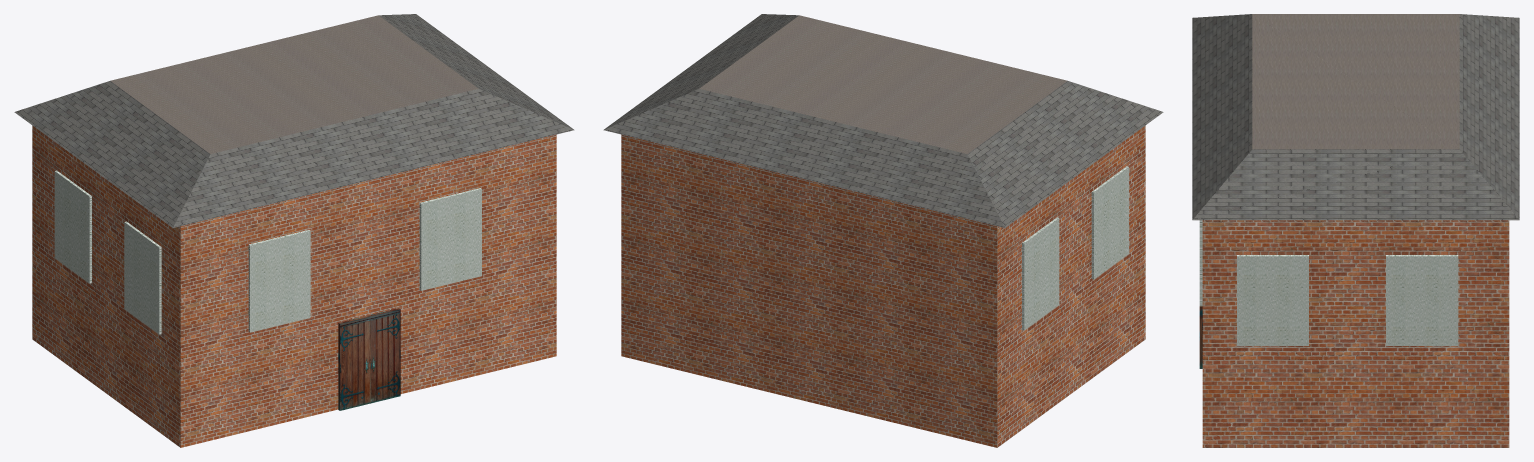
The model's file is building.fbx.
The picture shows the model from 3 angles, left to right: view 1: azimuth 30°, elevation 25°; view 2: azimuth 150°, elevation 25°; view 3: azimuth 270°, elevation 25°; orthographic projection. The views are drawn at different scales.
Visible parts, largest first — view 1: building, roof, door, window1, window, window5, window4; view 2: building, roof, window4, window5; view 3: roof, building, window3, window2, window.
Boxes of the visible parts, x1=… form: building: x1=32, y1=125, x2=556, y2=447; roof: x1=14, y1=14, x2=574, y2=227; door: x1=338, y1=308, x2=400, y2=410; window1: x1=248, y1=230, x2=310, y2=332; window: x1=419, y1=188, x2=481, y2=290; window5: x1=124, y1=221, x2=161, y2=334; window4: x1=54, y1=170, x2=91, y2=283; building: x1=621, y1=125, x2=1145, y2=447; roof: x1=603, y1=14, x2=1163, y2=227; window4: x1=1022, y1=217, x2=1059, y2=330; window5: x1=1091, y1=166, x2=1128, y2=279; roof: x1=1192, y1=14, x2=1519, y2=220; building: x1=1202, y1=220, x2=1509, y2=447; window3: x1=1386, y1=255, x2=1458, y2=345; window2: x1=1237, y1=255, x2=1308, y2=345; window: x1=1199, y1=220, x2=1202, y2=306.
Size of the model in its own units: 21.19 by 13.27 by 14.49.
